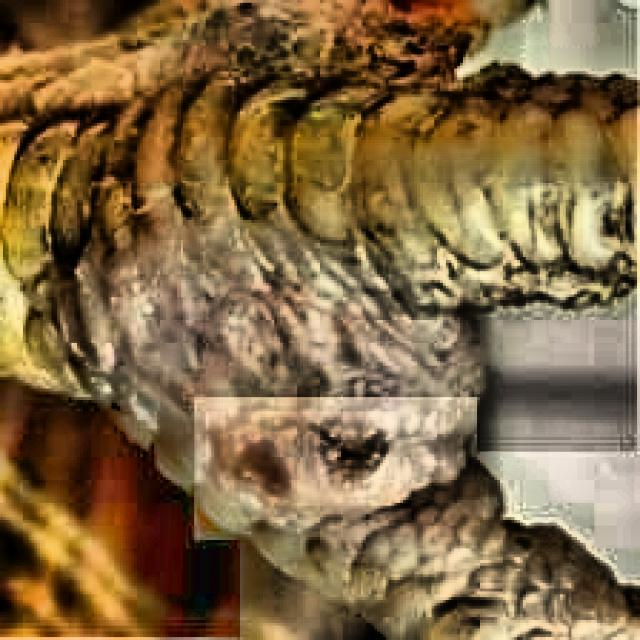Bumble foot: (94, 220, 546, 580)
